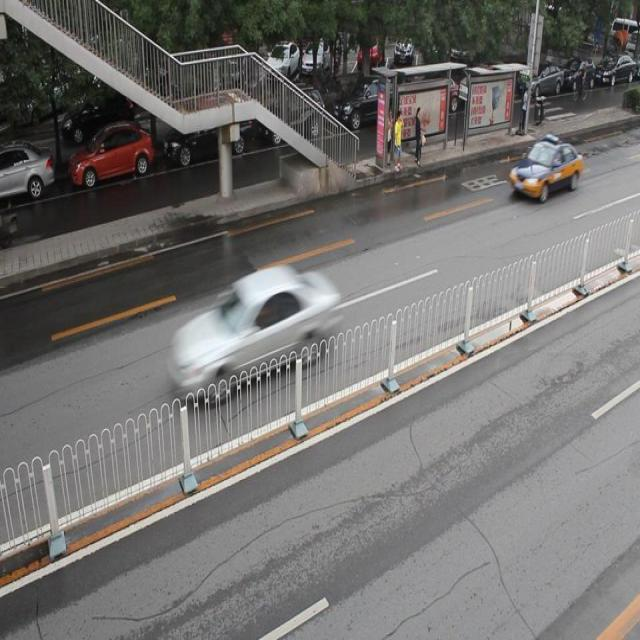car: (167, 264, 336, 400), (66, 121, 153, 187), (162, 100, 252, 162), (508, 134, 581, 204), (330, 75, 404, 132), (258, 85, 324, 145), (0, 140, 52, 198)
